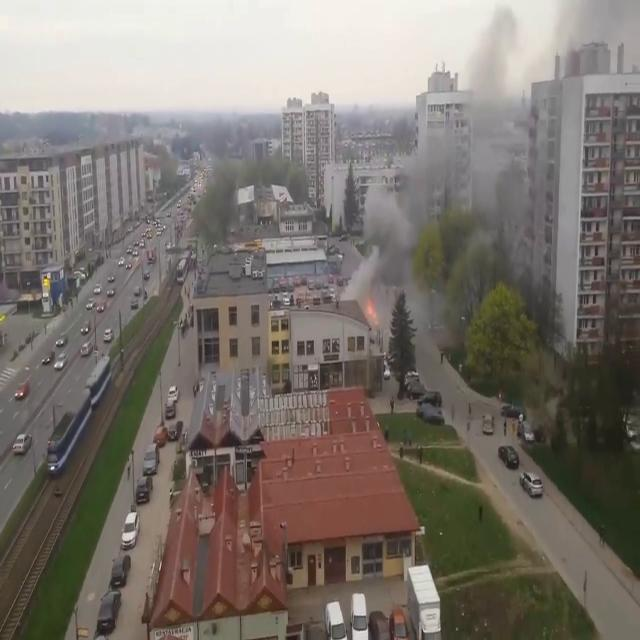smoke: (352, 1, 564, 326)
